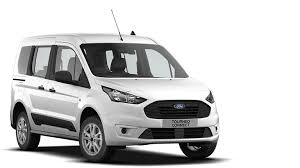Ford: (14, 32, 219, 164)
